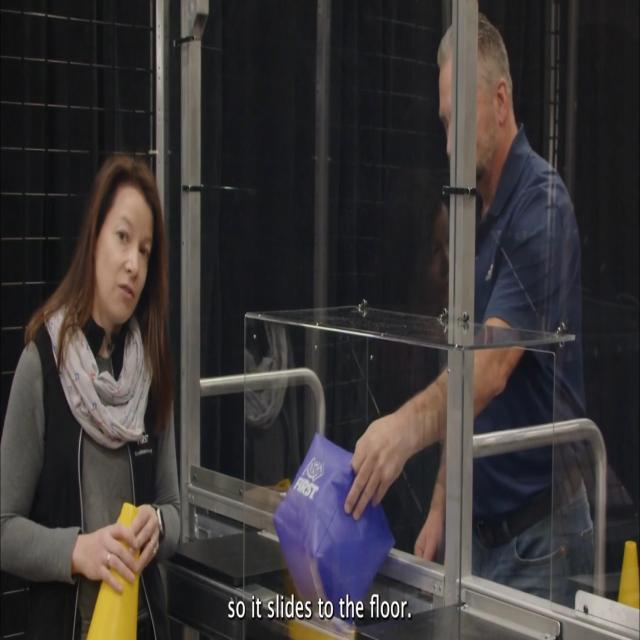frc_cone: (87, 496, 144, 639), (618, 535, 640, 611)
frc_cube: (273, 428, 394, 606)
